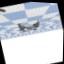drone: (17, 18, 41, 33)
